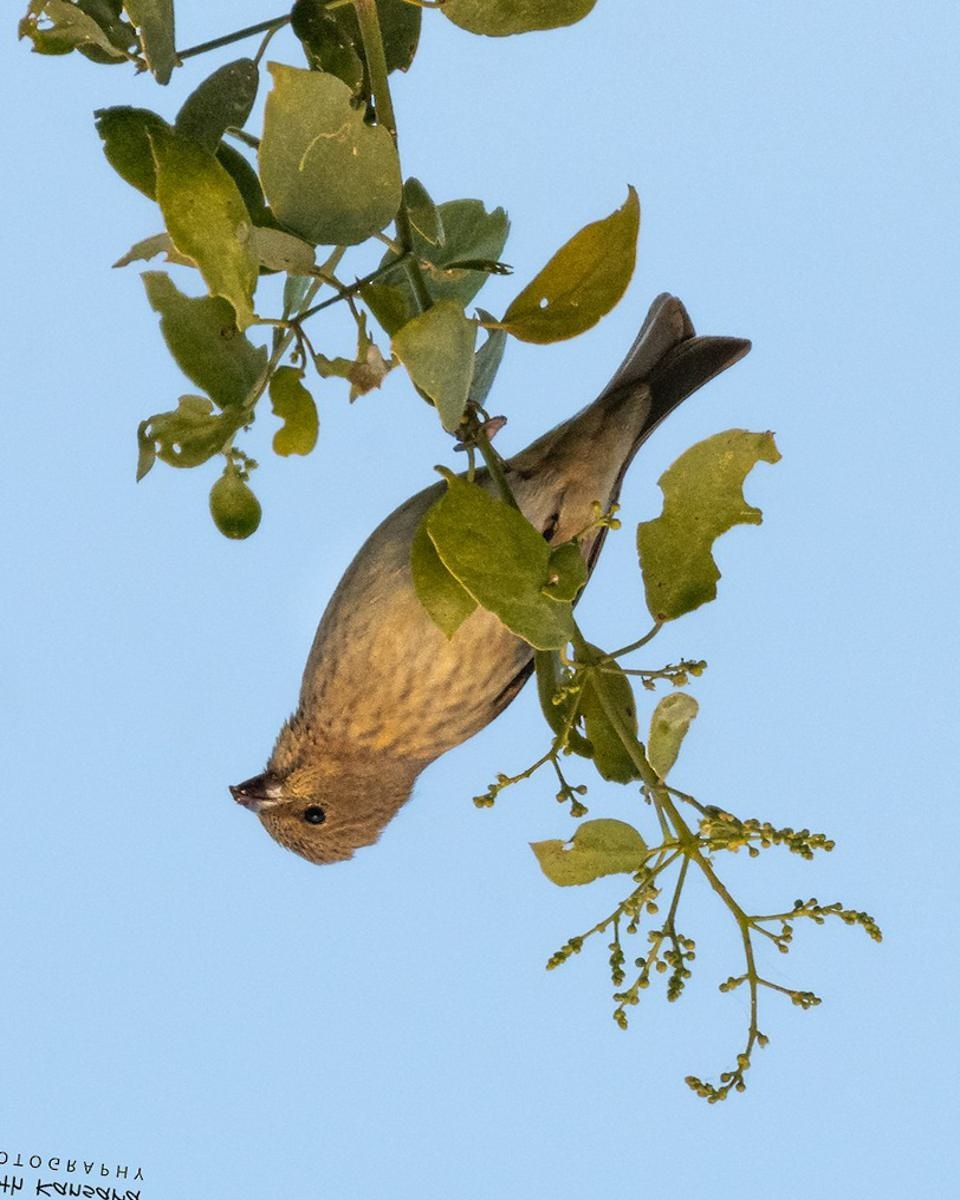rosefinch: (228, 291, 739, 909)
